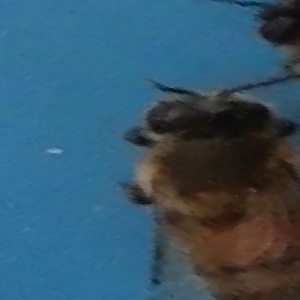bee: (143, 79, 298, 300)
